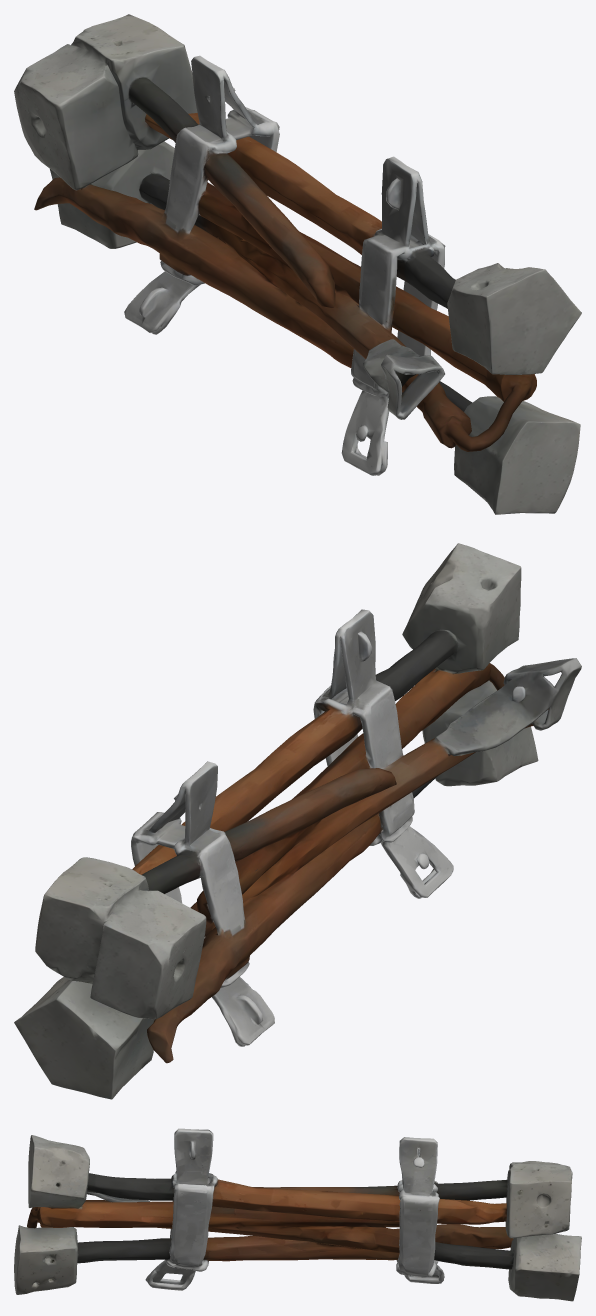
File: line_cable.glb
The picture shows the model from 3 angles, top to bottom: view 1: azimuth 30°, elevation 25°; view 2: azimuth 150°, elevation 25°; view 3: azimuth 270°, elevation 25°; orthographic projection. The views are drawn at different scales.
Visible parts, largest first — view 1: tripo_node_f5f00a07-9acf-441c-9726-5b4343dff396; view 2: tripo_node_f5f00a07-9acf-441c-9726-5b4343dff396; view 3: tripo_node_f5f00a07-9acf-441c-9726-5b4343dff396.
Part boxes in pixels (x1=…): tripo_node_f5f00a07-9acf-441c-9726-5b4343dff396: x1=14, y1=14, x2=581, y2=514; tripo_node_f5f00a07-9acf-441c-9726-5b4343dff396: x1=14, y1=543, x2=581, y2=1099; tripo_node_f5f00a07-9acf-441c-9726-5b4343dff396: x1=14, y1=1128, x2=581, y2=1301.
Size of the model in its own units: 0.2282 by 0.3479 by 1.
Materials: 1 (1 with a texture image).
